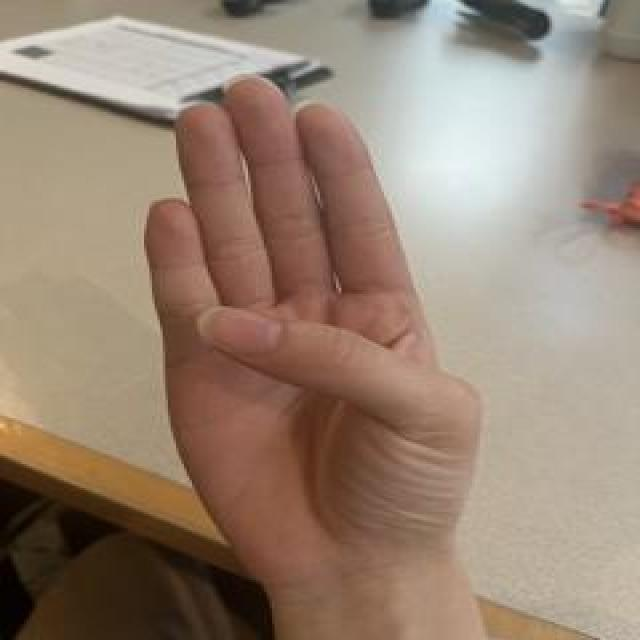B: (129, 66, 500, 588)
